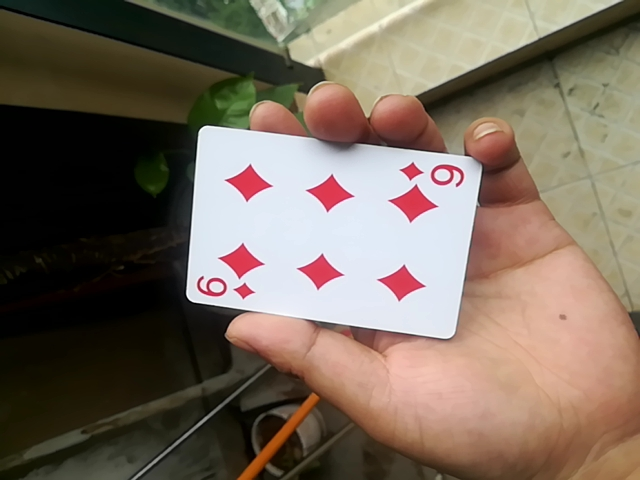fk 6: (177, 124, 484, 341)
